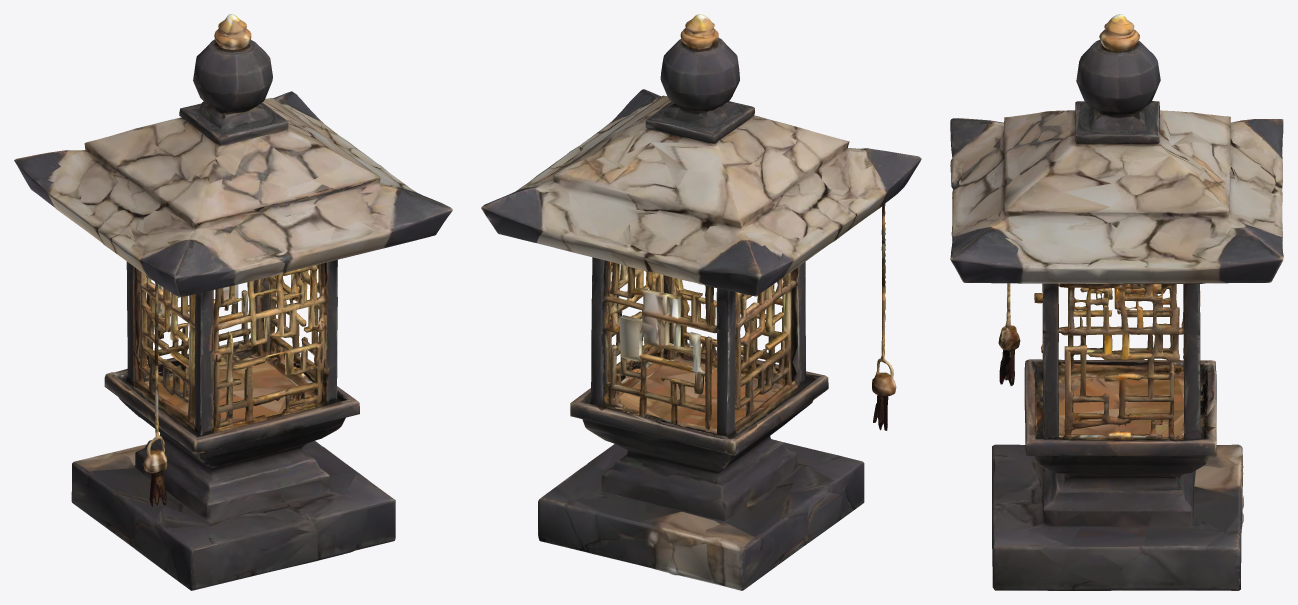
File: Stone_Lantern.glb
The picture shows the model from 3 angles, left to right: view 1: azimuth 30°, elevation 25°; view 2: azimuth 150°, elevation 25°; view 3: azimuth 270°, elevation 25°; orthographic projection. The views are drawn at different scales.
Visible parts, largest first — view 1: Stone_Lantern; view 2: Stone_Lantern; view 3: Stone_Lantern.
Part boxes in pixels (<box>): Stone_Lantern: <box>14,14,452,590</box>; Stone_Lantern: <box>481,14,921,590</box>; Stone_Lantern: <box>950,14,1283,590</box>.
Size of the model in its own units: 1.15 by 2 by 1.15.
Materials: 1 (1 with a texture image).
